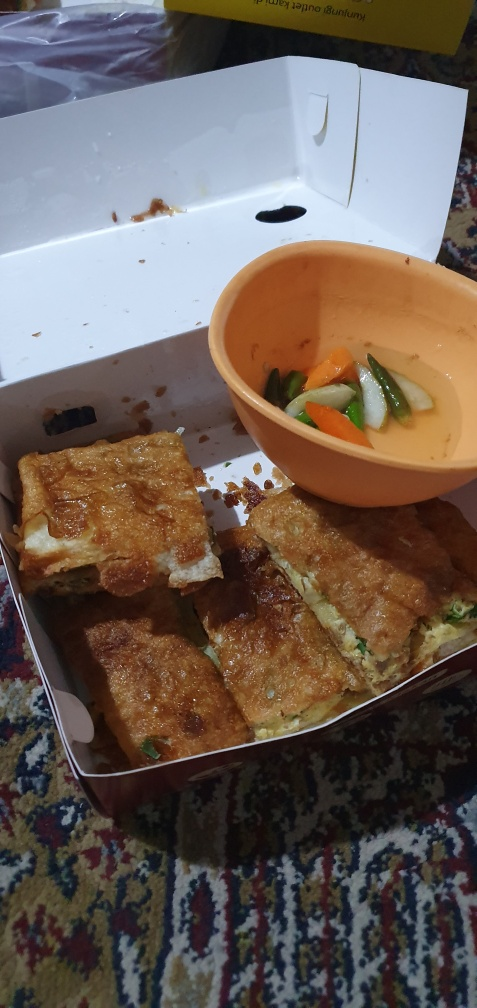martabak telor: (11, 431, 219, 587)
